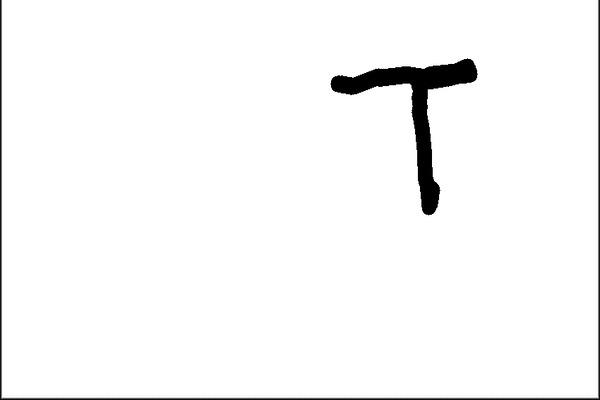T: (321, 51, 484, 222)
